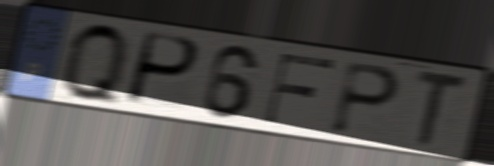6: (201, 43, 263, 121)
F: (260, 51, 339, 127)
P: (121, 29, 203, 109), (327, 59, 403, 138)
Q: (60, 19, 130, 111)
T: (413, 67, 471, 150)
